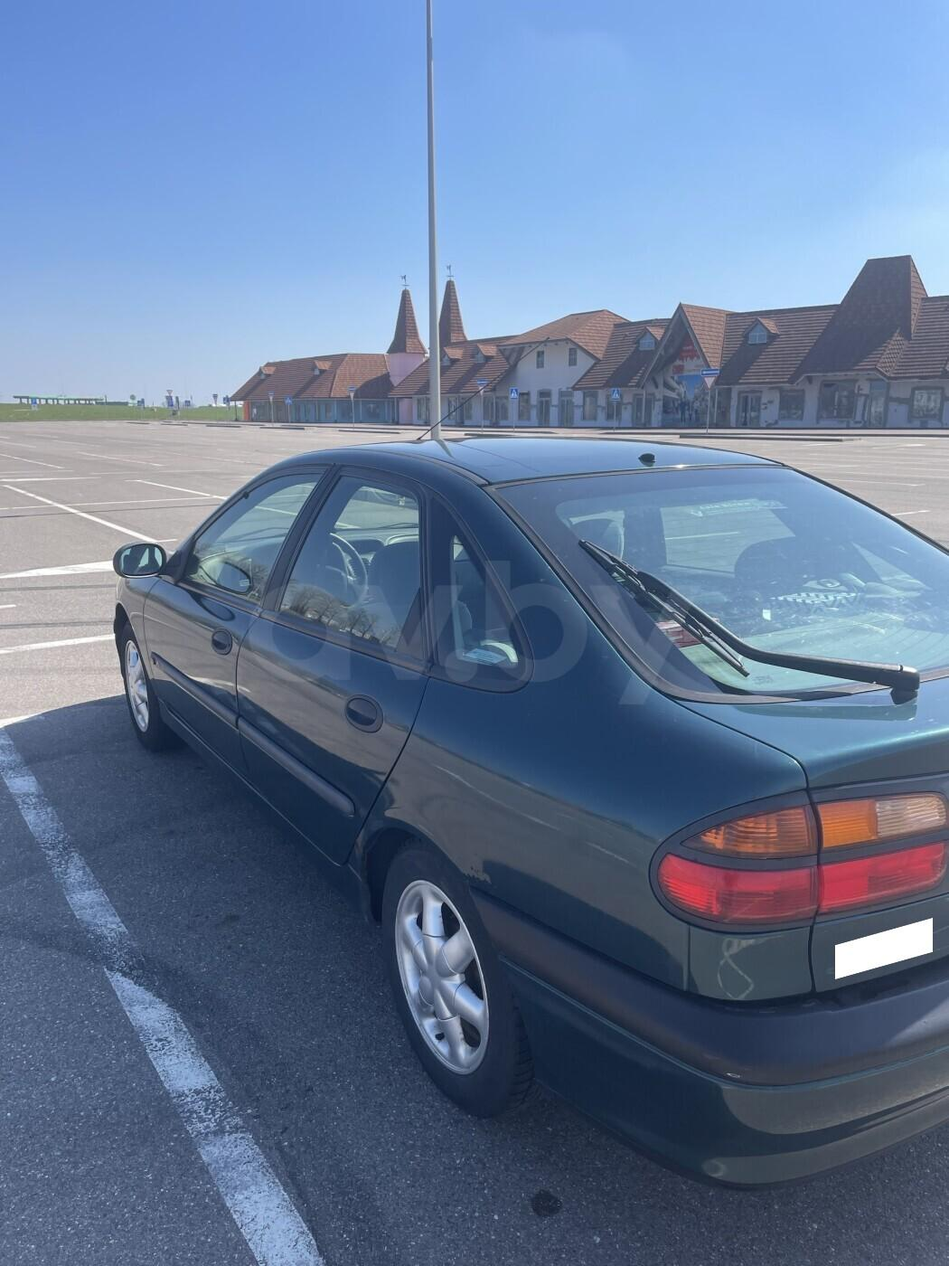Laguna_1998-2001: (101, 429, 949, 1188)
